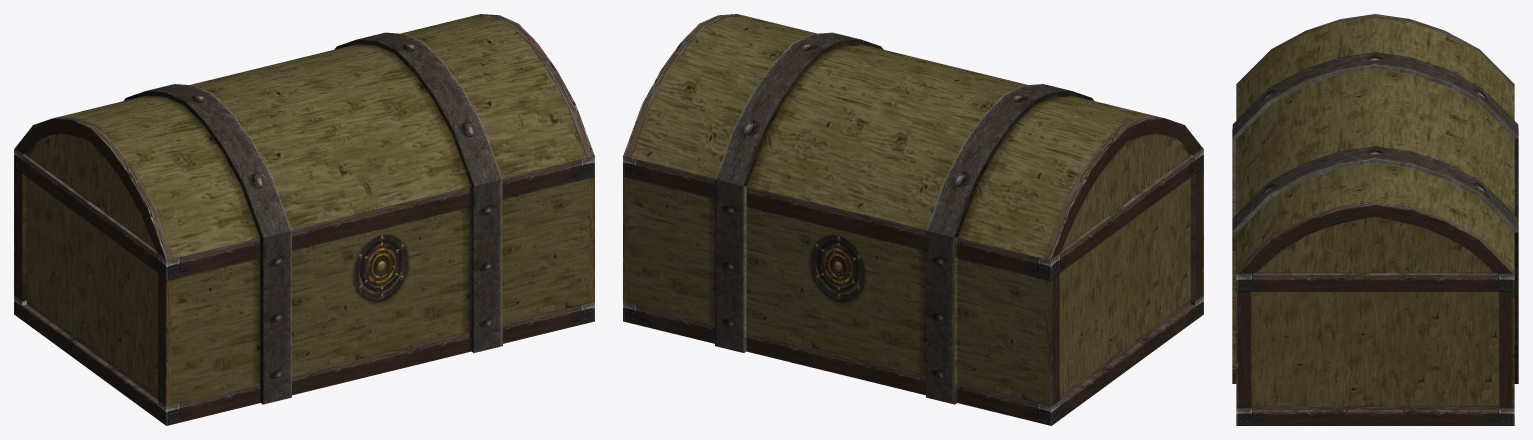
3 renders of one model, left to right at view 1: azimuth 30°, elevation 25°; view 2: azimuth 150°, elevation 25°; view 3: azimuth 270°, elevation 25°, orthographic. The views are drawn at different scales.
Parts seen in each view (by area): view 1: Box_1; view 2: Box_1; view 3: Box_1.
Part boxes in pixels (x1,y1,x2,y2): Box_1: [14, 14, 594, 425]; Box_1: [623, 14, 1203, 425]; Box_1: [1232, 14, 1518, 425].
Size of the model in its own units: 44.16 by 24.24 by 28.01.
